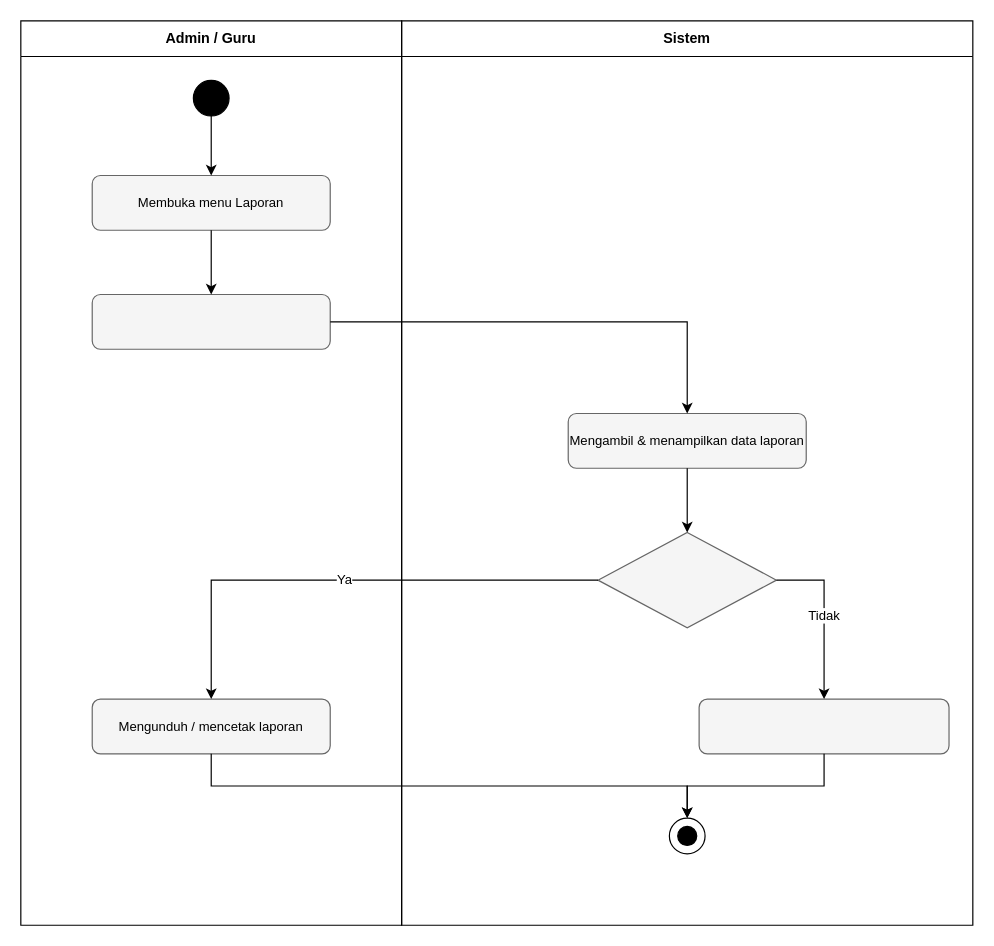
Image size: 994x946. Some labels were removed from this diagram. Here are the shapes that lost their labels. From the top down, the centre of each, then its label:
At (x=210, y=321): "Memilih jenis laporan & rentang tanggal".
At (x=686, y=579): "Ada data?".
At (x=823, y=726): "Menampilkan laporan kosong".
